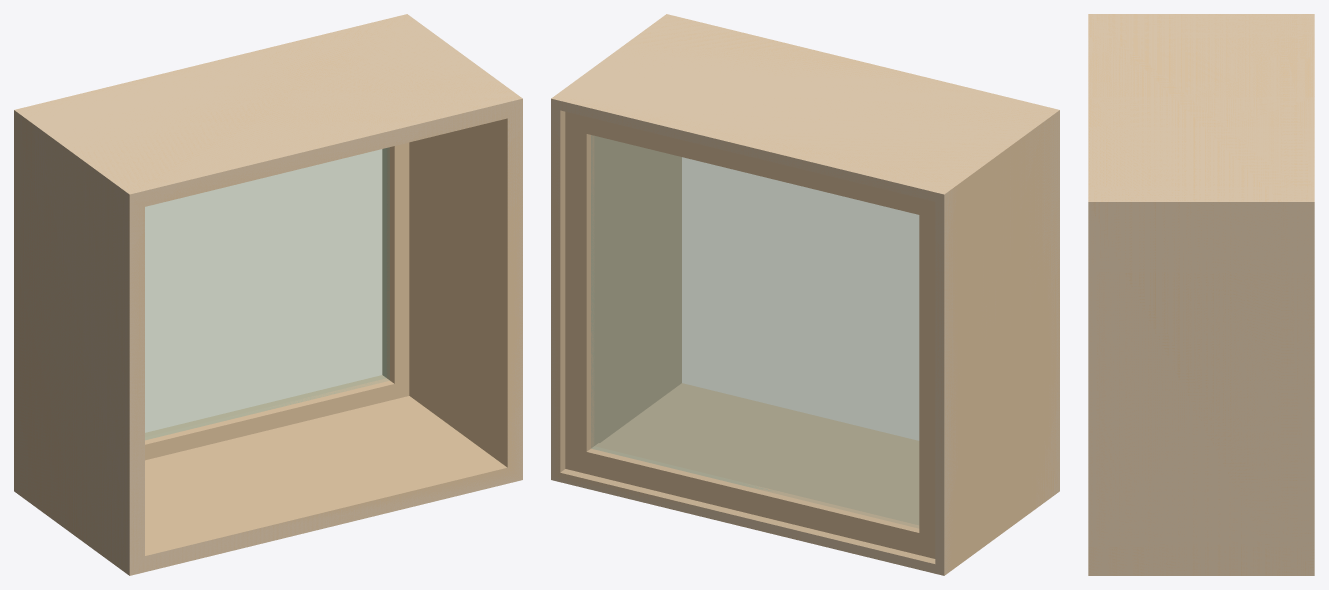
File: window-819mm-x-759mm.glb
The picture shows the model from 3 angles, left to right: view 1: azimuth 30°, elevation 25°; view 2: azimuth 150°, elevation 25°; view 3: azimuth 270°, elevation 25°; orthographic projection. The views are drawn at different scales.
Visible parts, largest first — view 1: 1hOSvn6df7F8_7GcBWlSga, 1xS3BCk291UvhgP2dvNoO$; view 2: 1hOSvn6df7F8_7GcBWlSga, 1xS3BCk291UvhgP2dvNoO$; view 3: 1hOSvn6df7F8_7GcBWlSga, 1xS3BCk291UvhgP2dvNoO$.
Part boxes in pixels (<box>): 1hOSvn6df7F8_7GcBWlSga: <box>14,14,522,575</box>; 1xS3BCk291UvhgP2dvNoO$: <box>14,48,522,569</box>; 1hOSvn6df7F8_7GcBWlSga: <box>551,14,1059,575</box>; 1xS3BCk291UvhgP2dvNoO$: <box>551,39,1059,571</box>; 1hOSvn6df7F8_7GcBWlSga: <box>1088,14,1314,575</box>; 1xS3BCk291UvhgP2dvNoO$: <box>1089,15,1313,575</box>.
Bounding box in the file's own units: 0.819 × 0.759 × 0.417.
